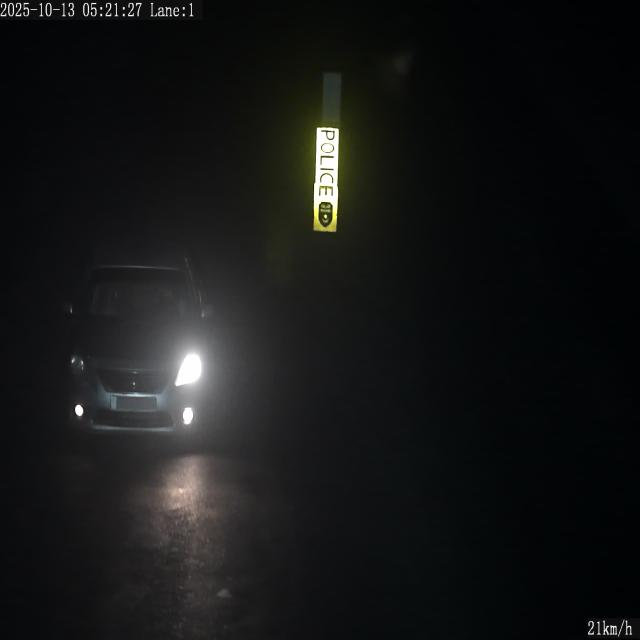BUS: (110, 395, 156, 410)
